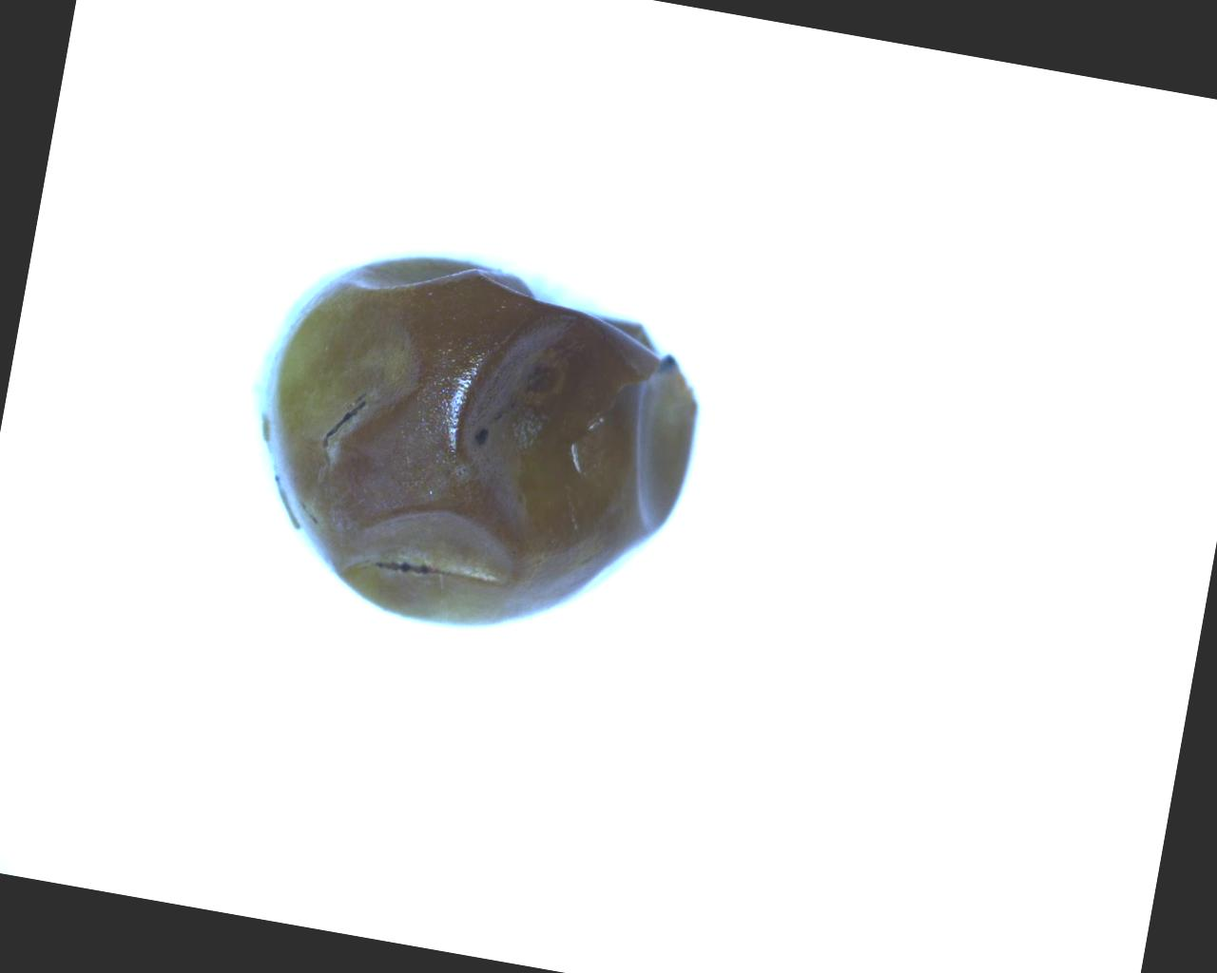Grape Rotten: (225, 226, 721, 664)
